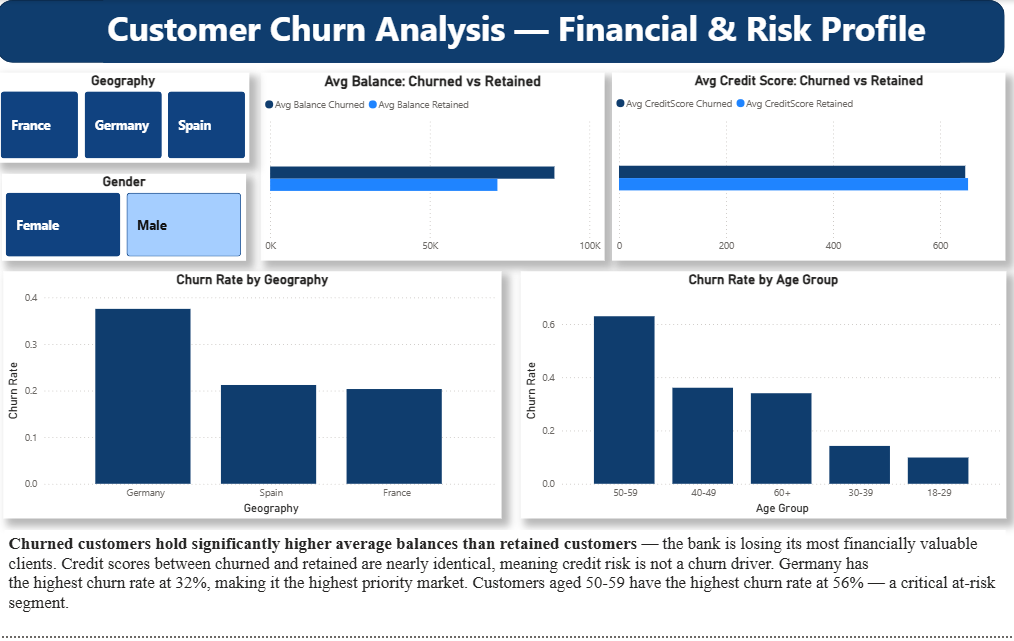

The page's visual inventory and layout, read from the dashboard file:
{"tool":"powerbi","page":{"name":"Financial & Risk Profile","canvas":[1280,800],"ordinal":2},"visuals":[{"type":"clusteredBarChart","title":"Avg Balance: Churned vs Retained","fields":{"Y":["churn_db churn_data.Avg Balance Churned","churn_db churn_data.Avg Balance Retained"]},"box":[331.7,91,432.9,236.7],"z":0},{"type":"clusteredBarChart","title":"Avg Credit Score: Churned vs Retained","fields":{"Y":["churn_db churn_data.Avg CreditScore Churned","churn_db churn_data.Avg CreditScore Retained"]},"box":[774.7,91,495.6,236.7],"z":2000},{"type":"shape","box":[0,0,1268.3,78.9],"z":4000},{"type":"textbox","box":[134,0,1078,79],"z":5000},{"type":"advancedSlicerVisual","fields":{"Values":["churn_db churn_data.Geography"]},"box":[0,91,317.6,113.3],"z":6000},{"type":"advancedSlicerVisual","fields":{"Values":["churn_db churn_data.Gender"]},"box":[6.1,218.5,307.5,109.2],"z":7000},{"type":"clusteredColumnChart","title":"  Churn Rate by Geography","fields":{"Category":["churn_db churn_data.Geography"],"Y":["churn_db churn_data.Churn Rate"]},"box":[8.1,341.8,627.1,311.5],"z":7001},{"type":"clusteredColumnChart","title":"Churn Rate by Age Group","fields":{"Category":["churn_db churn_data.Age Group"],"Y":["churn_db churn_data.Churn Rate"]},"box":[659.4,341.8,610.9,311.5],"z":7002},{"type":"textbox","box":[10.1,667.5,1260.2,131.5],"z":7003}]}

Visuals, with their boxes in screenshot pixels (x1, y1, x2, y2), scaled from the page's 1280x800 canvas onto the 1014x641 screenshot:
"Avg Balance: Churned vs Retained" clusteredBarChart: 263,73,606,263
"Avg Credit Score: Churned vs Retained" clusteredBarChart: 614,73,1006,263
shape: 0,0,1005,63
textbox: 106,0,960,63
advancedSlicerVisual - churn_db churn_data.Geography: 0,73,252,164
advancedSlicerVisual - churn_db churn_data.Gender: 5,175,248,263
"  Churn Rate by Geography" clusteredColumnChart: 6,274,503,523
"Churn Rate by Age Group" clusteredColumnChart: 522,274,1006,523
textbox: 8,535,1006,640
